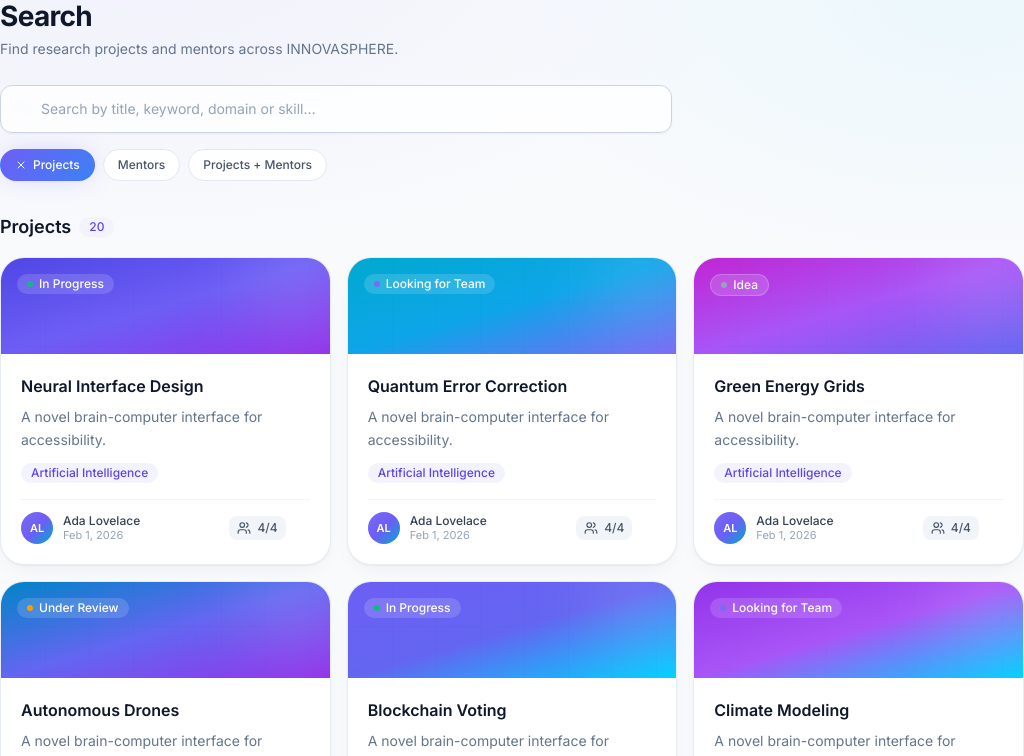
Test: SearchPage › shows project results once a debounced keyword matches
Expected: the heading "Search" is shown, [0,0,92,33]
Type "Quantum" into the search field named "Search INNOVASPHERE" at (336, 109), box [0,85,672,133]
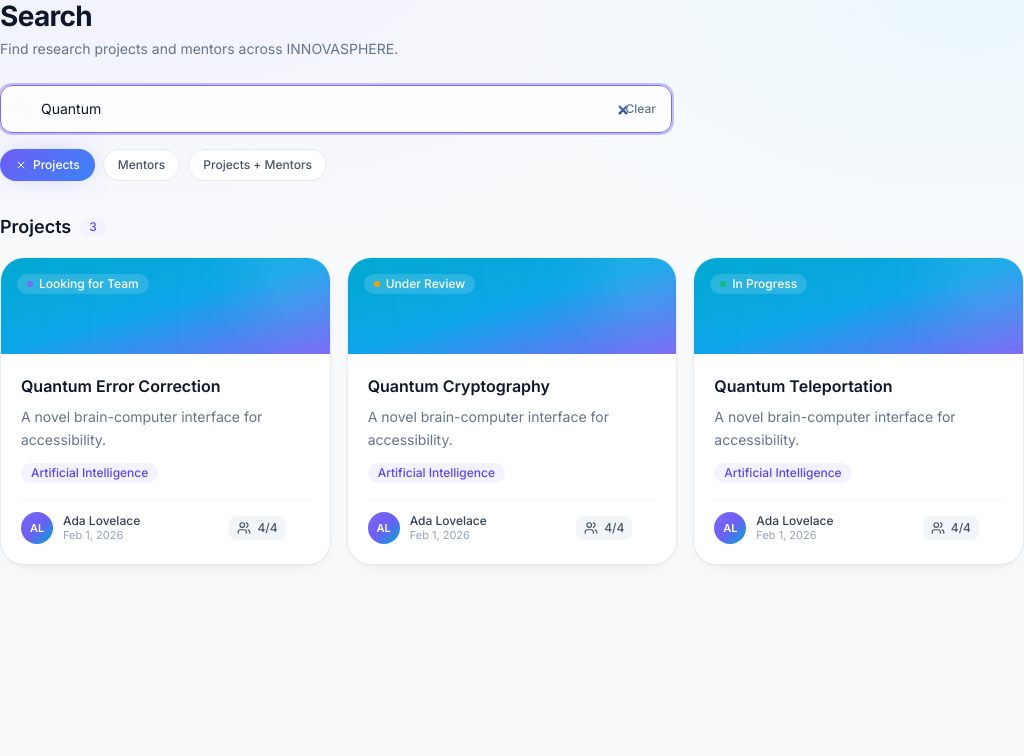
Expected: the heading "Quantum Error Correction" is shown, [21,376,220,396]
Result: the link "Neural Interface Design" is gone
